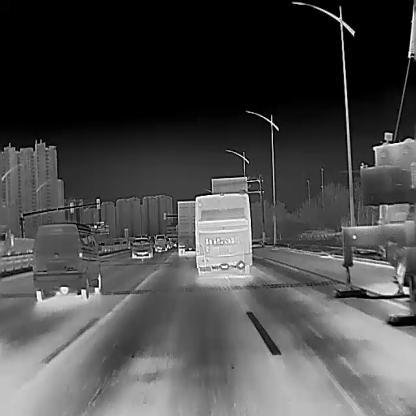car: (33, 223, 101, 300), (195, 189, 252, 275), (0, 225, 35, 255), (177, 200, 194, 260), (131, 237, 153, 258), (154, 232, 166, 252), (99, 241, 107, 247), (112, 239, 121, 244)
